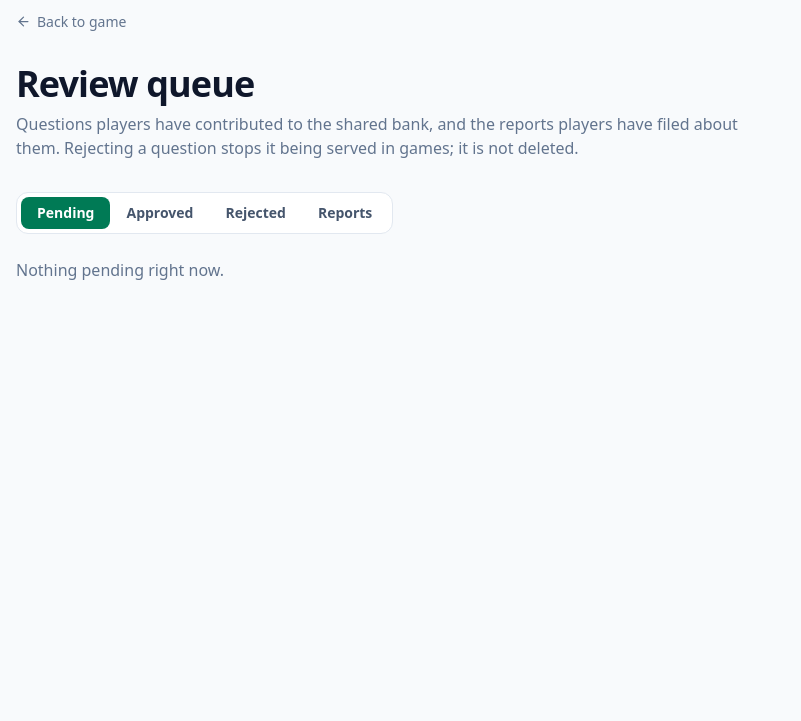
Test case: ReviewQueueComponent reports tab, rendered › renders the good reports beside a malformed one rather than failing the page
The image size is (801, 721).
Click the radio button with test id "review-tab" showing "Reports" at (345, 212), box x1=302 y1=196 x2=388 y2=228
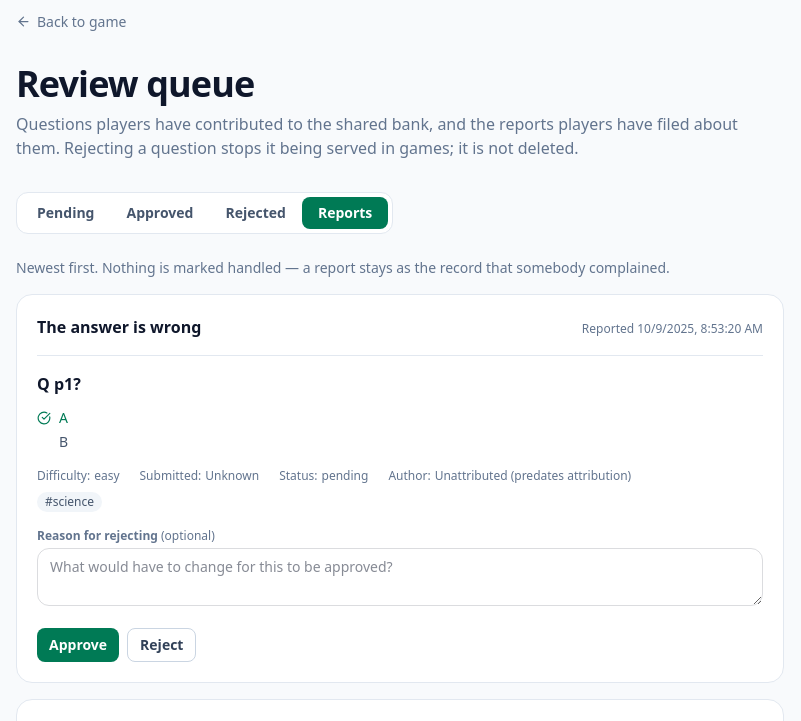
Check: the element with test id "reported-question" is shown, box x1=37 y1=354 x2=763 y2=662
